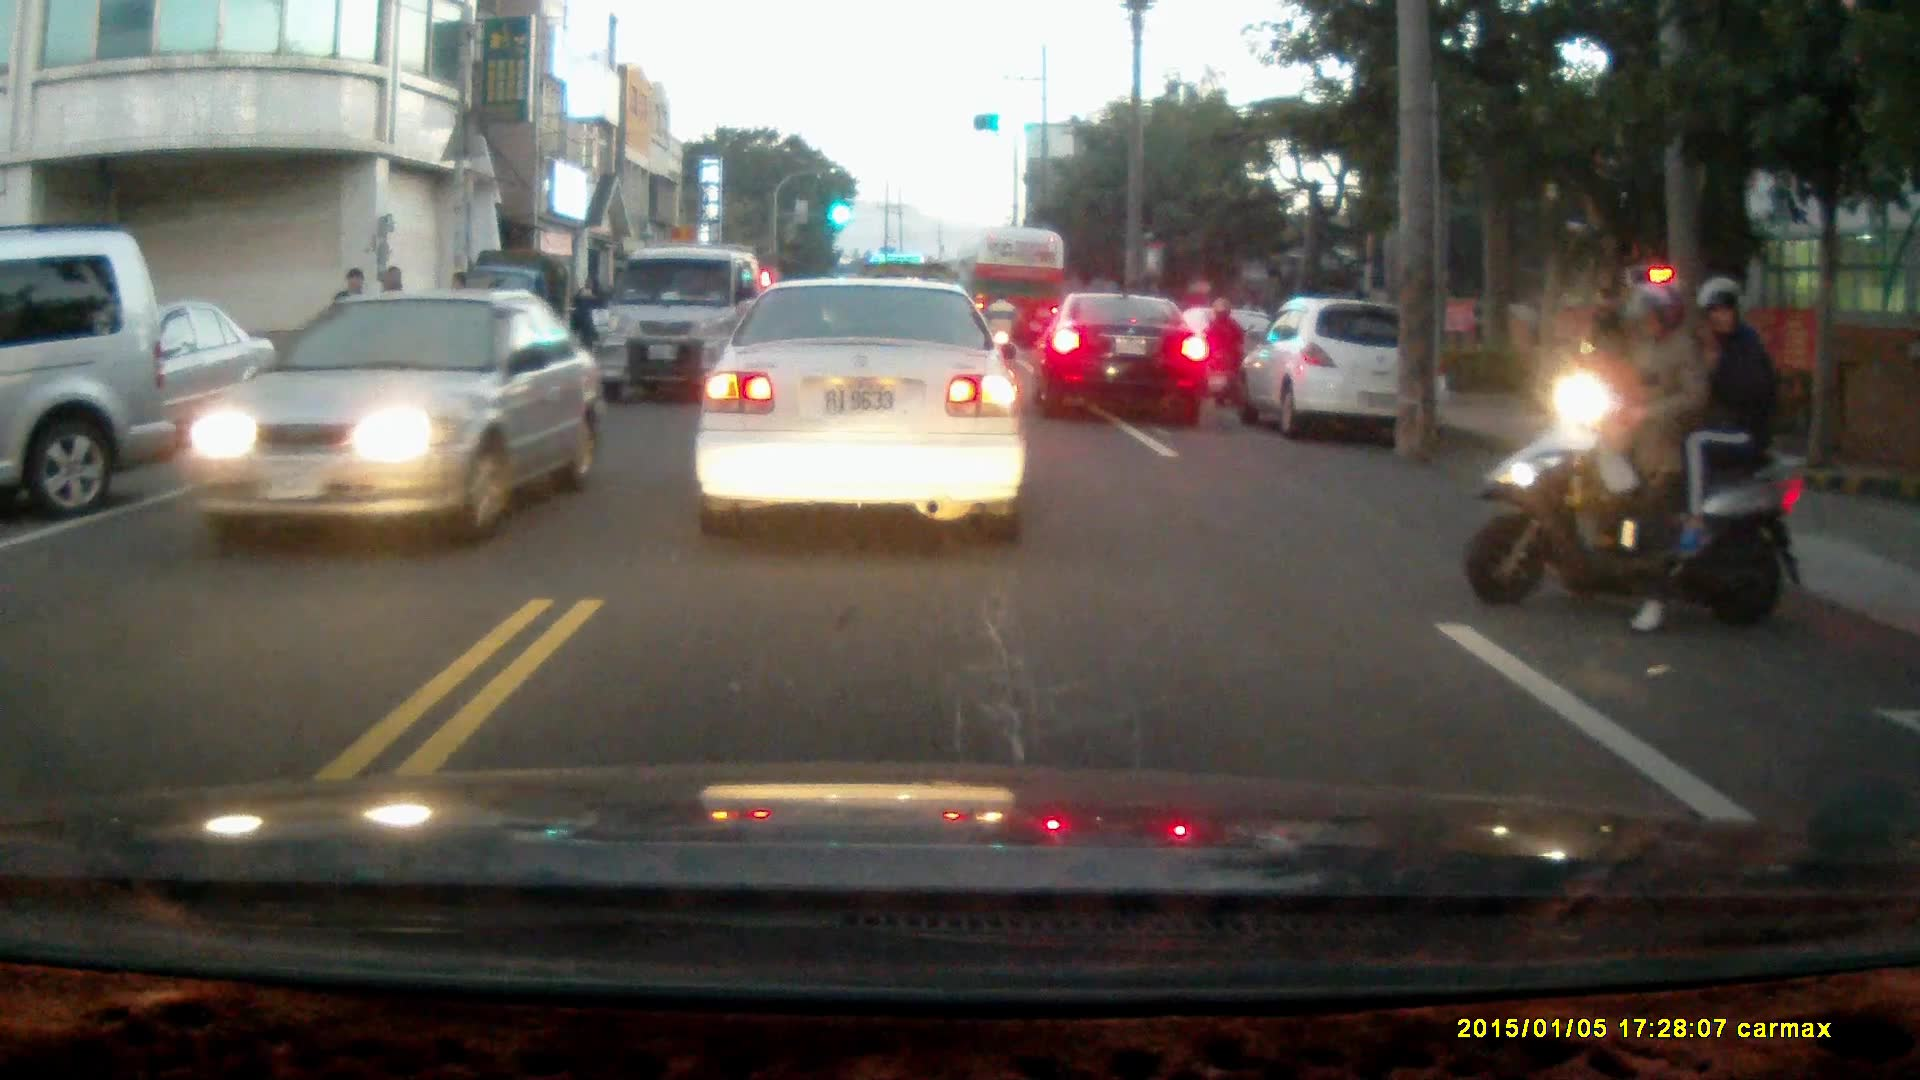pedestrian: (1582, 284, 1633, 406), (571, 273, 604, 363)
rider: (1468, 272, 1802, 638), (1200, 292, 1249, 405), (981, 288, 1020, 365)
vehicle: (185, 288, 597, 552), (692, 271, 1030, 544), (1, 226, 179, 519), (16, 297, 284, 461), (1242, 294, 1448, 439), (604, 244, 768, 402), (1034, 294, 1217, 425), (969, 224, 1072, 360)
